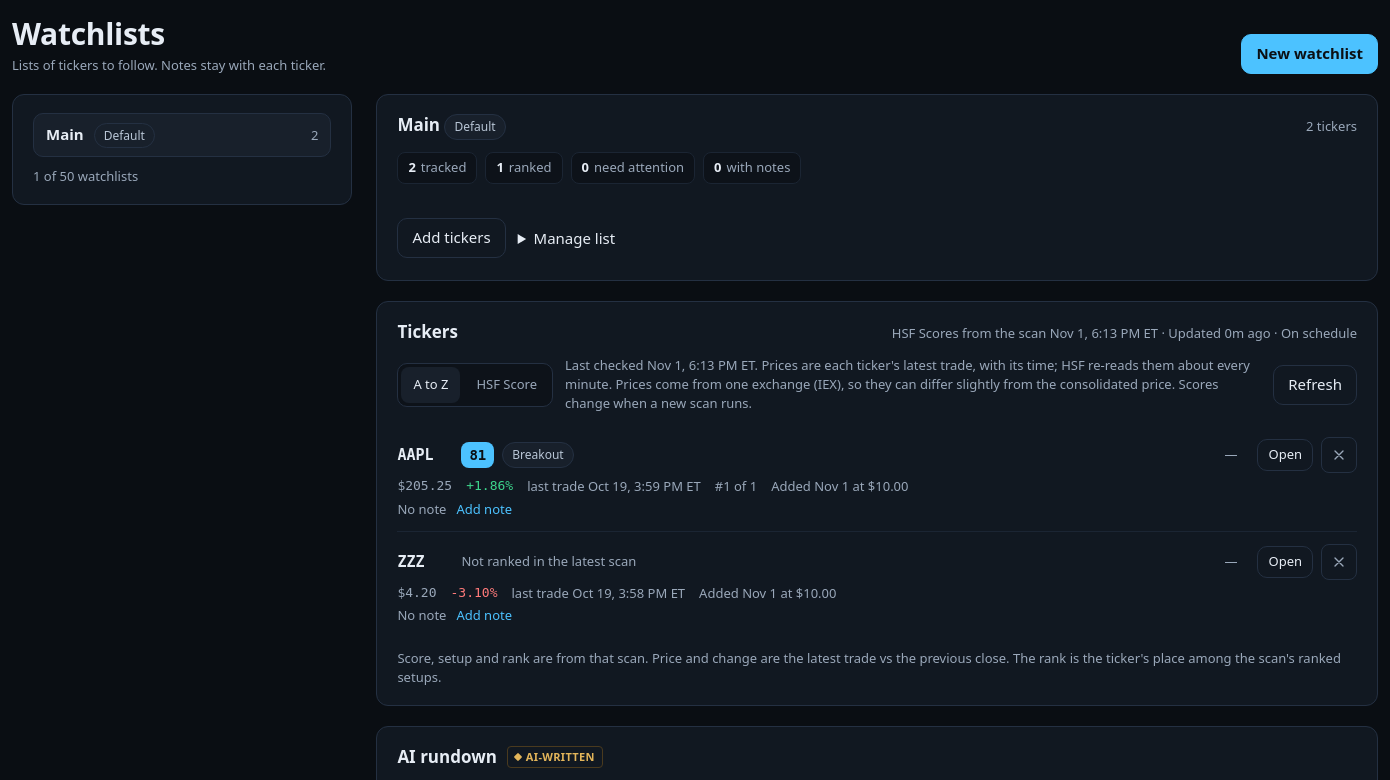
Scenario: Watchlists › shows the latest trade for ranked and unranked tickers, and Refresh re-reads it
Expected: the text "$205.25" is shown, [397,477,452,496]
Expected: the text "$4.20" is shown, [397,584,436,602]
Click the button with aria-label "Refresh prices and scores for Main": (1315, 385) [1273,365,1357,405]
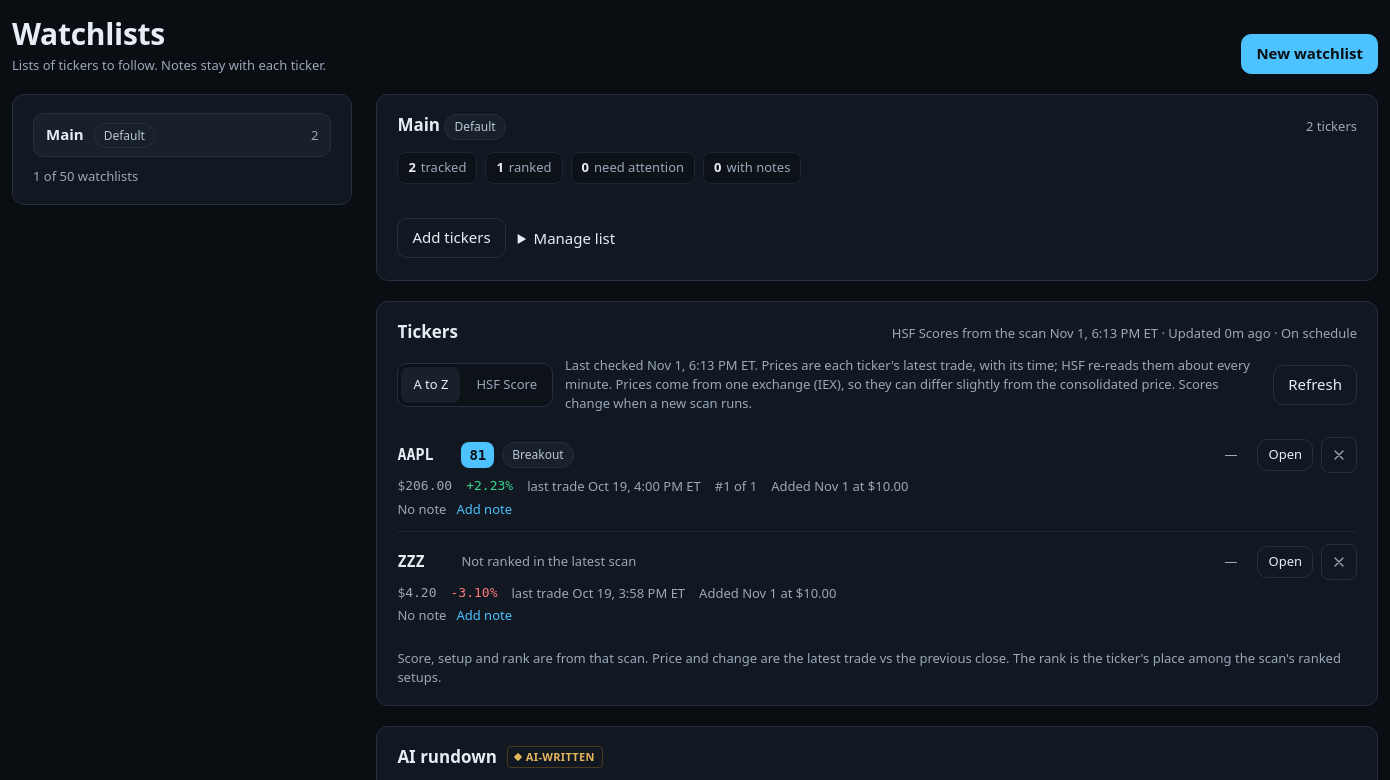
Expected: the text "$206.00" is shown, [397,477,452,496]
